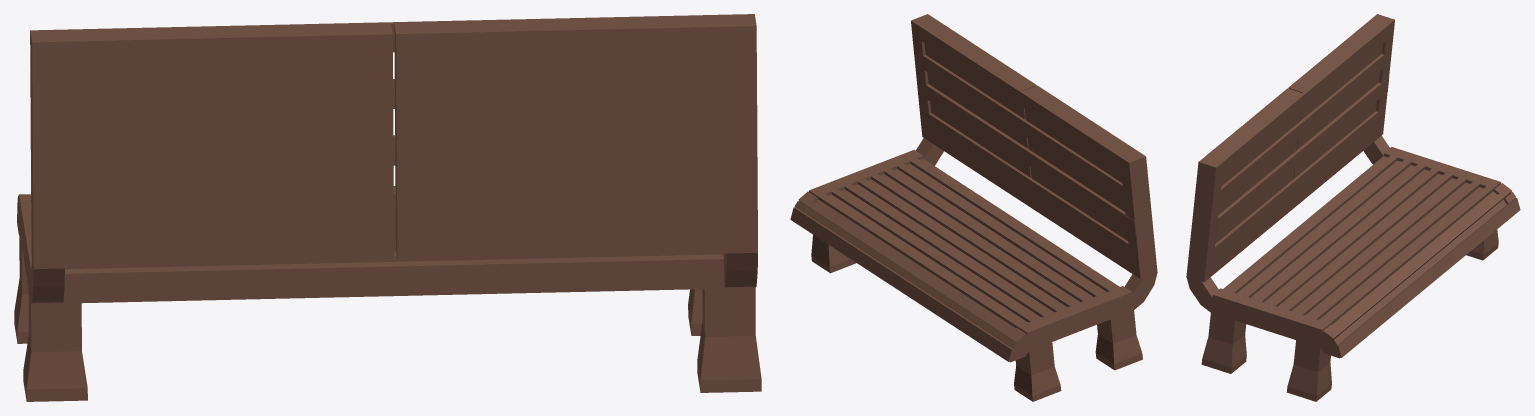
File: Park Bench.glb
3 renders of one model, left to right at view 1: azimuth 30°, elevation 25°; view 2: azimuth 150°, elevation 25°; view 3: azimuth 270°, elevation 25°, orthographic. The views are drawn at different scales.
Parts seen in each view (by area): view 1: group1296532599, group694668986, group941554659, group1194625749, group1583285704, group188823885; view 2: group1296532599, group694668986, group1194625749, group1583285704, group188823885; view 3: group1296532599, group694668986, group941554659, group188823885, group1583285704.
Part boxes in pixels (bbox=[...]): group1296532599: bbox=[30, 14, 757, 295]; group694668986: bbox=[17, 24, 394, 304]; group941554659: bbox=[697, 288, 761, 392]; group1194625749: bbox=[23, 288, 87, 401]; group1583285704: bbox=[14, 231, 28, 343]; group188823885: bbox=[688, 289, 702, 335]; group1296532599: bbox=[790, 14, 1142, 338]; group694668986: bbox=[899, 85, 1157, 362]; group1194625749: bbox=[1095, 310, 1142, 370]; group1583285704: bbox=[1014, 342, 1061, 401]; group188823885: bbox=[811, 234, 856, 273]; group1296532599: bbox=[1186, 19, 1504, 358]; group694668986: bbox=[1288, 14, 1520, 283]; group941554659: bbox=[1201, 313, 1246, 373]; group188823885: bbox=[1286, 340, 1331, 401]; group1583285704: bbox=[1466, 229, 1498, 260].
Size of the model in its own units: 1.25 by 0.6844 by 0.9721.
